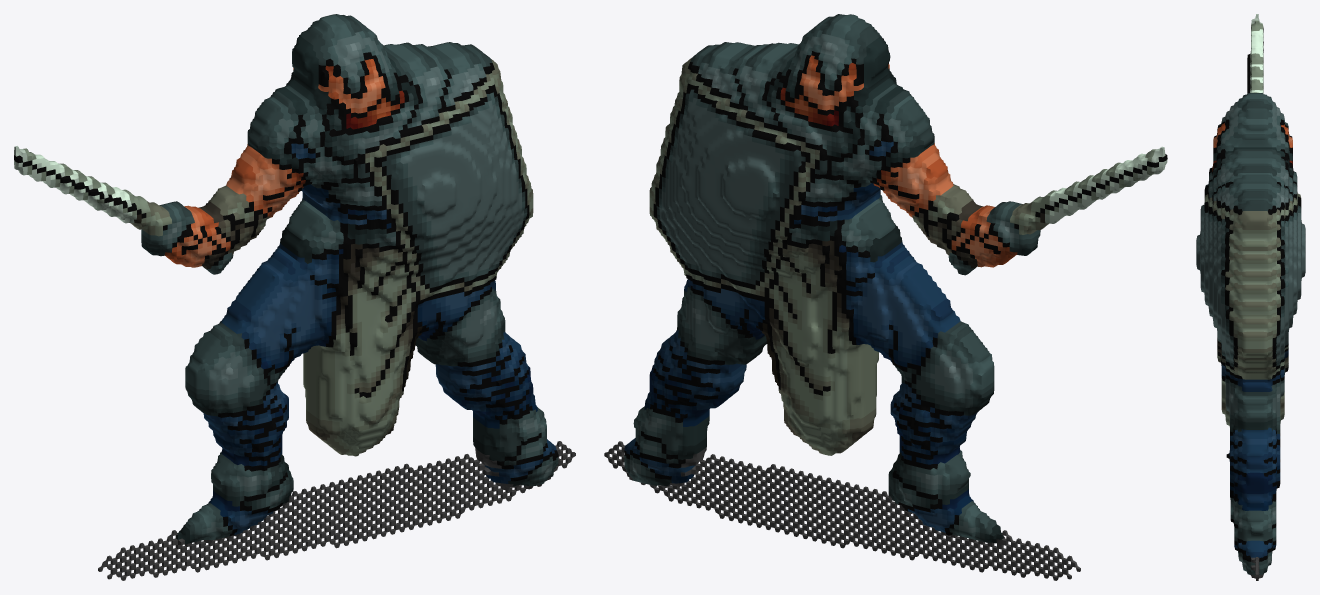
File: Fight_704_2_02.obj
3 views of the same model, side by side, from view 1: azimuth 30°, elevation 25°; view 2: azimuth 150°, elevation 25°; view 3: azimuth 270°, elevation 25° (orthographic). The views are drawn at different scales.
Size of the model in its own units: 12.08 by 10.88 by 2.6.
Materials: 1 (1 with a texture image).
